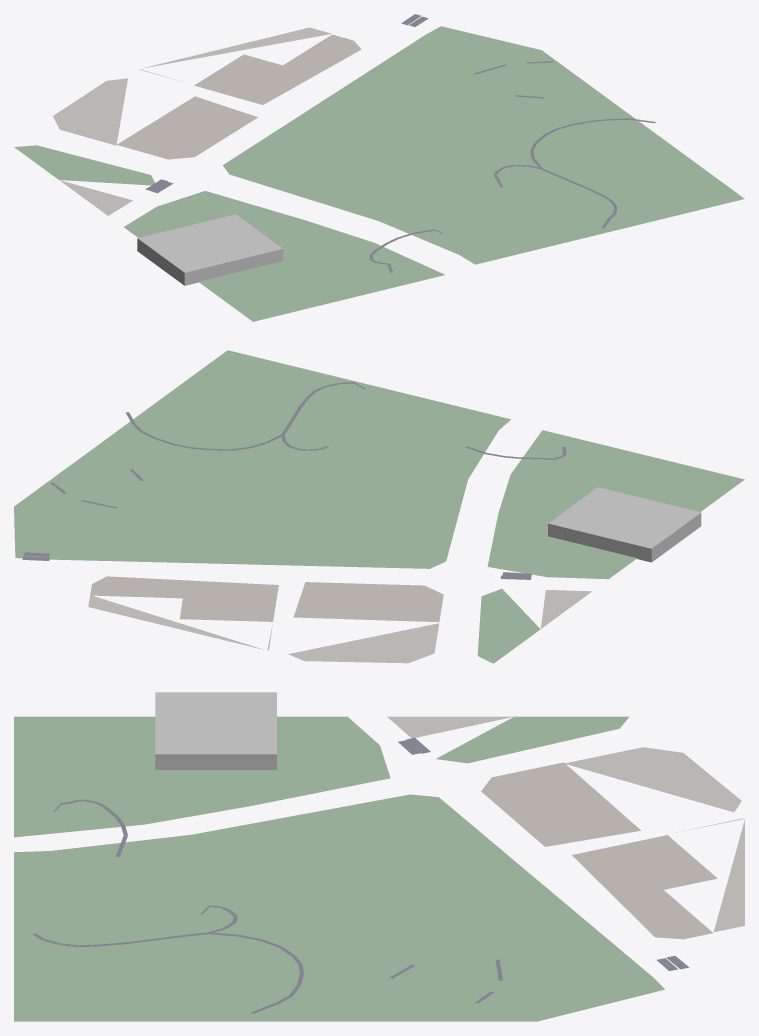
The model's file is 124_68_mid.glb.
3 renders of one model, top to bottom at view 1: azimuth 30°, elevation 25°; view 2: azimuth 150°, elevation 25°; view 3: azimuth 270°, elevation 25°, orthographic. The views are drawn at different scales.
Bounding box in the file's own units: 518 × 12.7 × 500.
